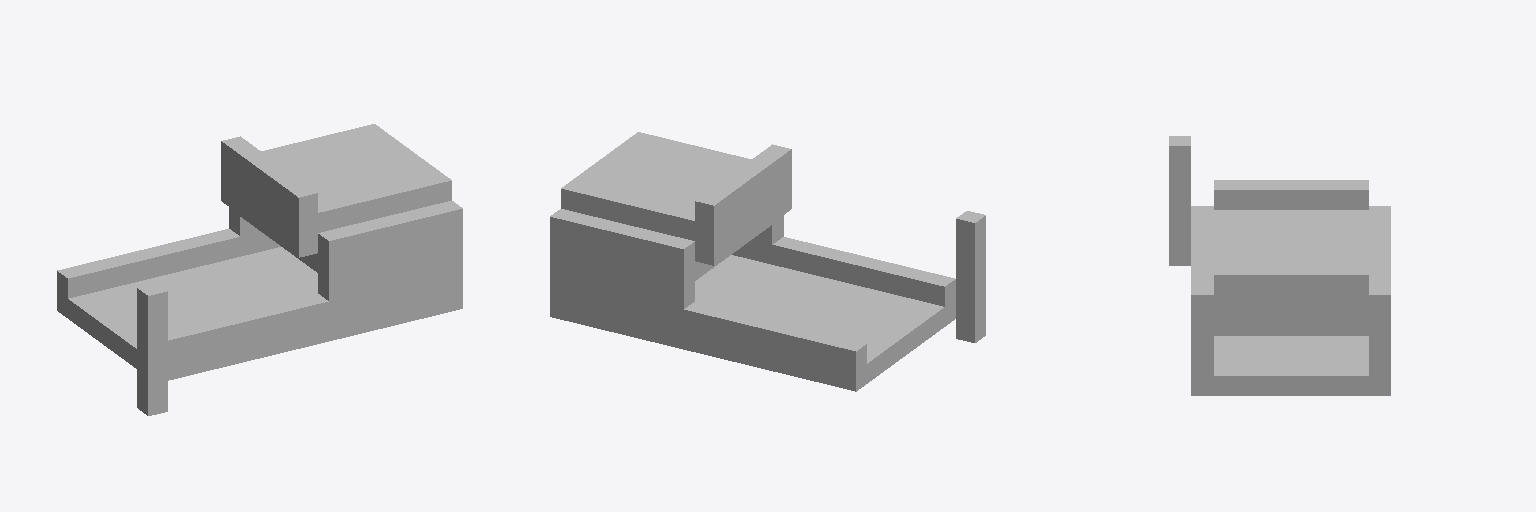
Rendered from Metal 2.obj.
3 renders of one model, left to right at view 1: azimuth 30°, elevation 25°; view 2: azimuth 150°, elevation 25°; view 3: azimuth 270°, elevation 25°, orthographic.
Parts seen in each view (by area): view 1: object 1; view 2: object 1; view 3: object 1.
Part boxes in pixels (x1,y1,x2,y2): object 1: (57, 124, 462, 415); object 1: (550, 132, 985, 391); object 1: (1169, 136, 1390, 395).
Size of the model in its own units: 1.7 by 0.8 by 1.